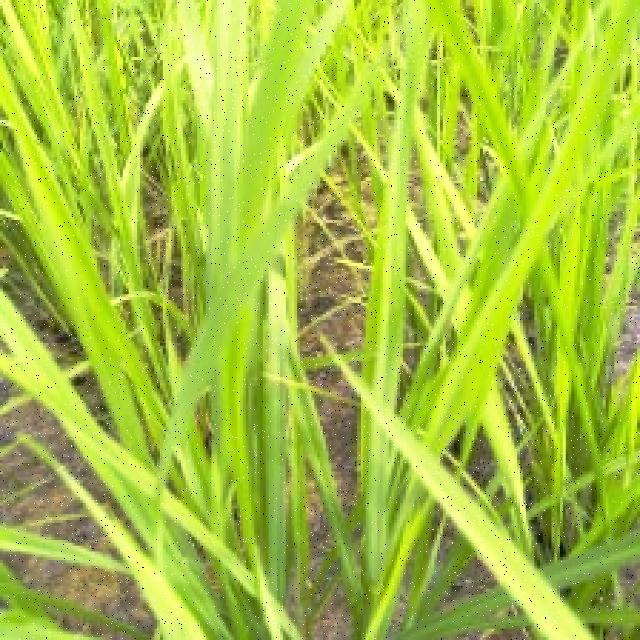health: (177, 0, 299, 640)
